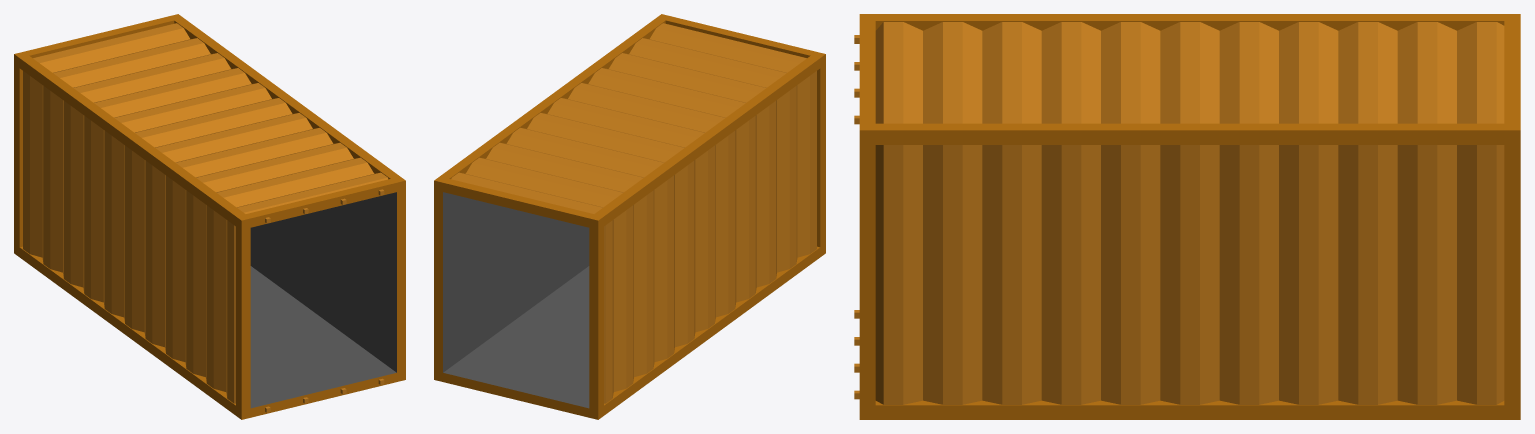
The model's file is SM_Props_ShippingContainer_02.glb.
3 renders of one model, left to right at view 1: azimuth 30°, elevation 25°; view 2: azimuth 150°, elevation 25°; view 3: azimuth 270°, elevation 25°, orthographic. The views are drawn at different scales.
Visible parts, largest first — view 1: SM_Props_ShippingContainer_02; view 2: SM_Props_ShippingContainer_02; view 3: SM_Props_ShippingContainer_02.
Boxes of the visible parts, x1,y1,x2,y2 form: SM_Props_ShippingContainer_02: (14,14,405,419); SM_Props_ShippingContainer_02: (434,14,825,419); SM_Props_ShippingContainer_02: (854,14,1520,419).
Bounding box in the file's own units: 2.5 × 2.9 × 6.05.
Materials: 1 (1 with a texture image).
